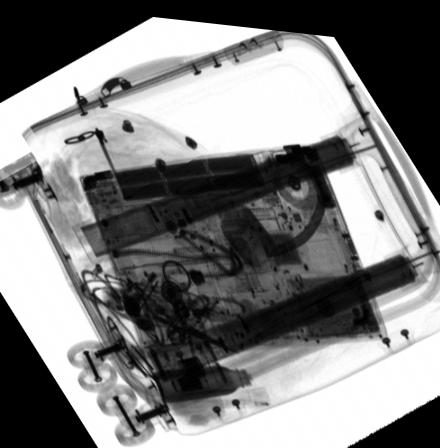Scissors: (124, 270, 242, 348)
